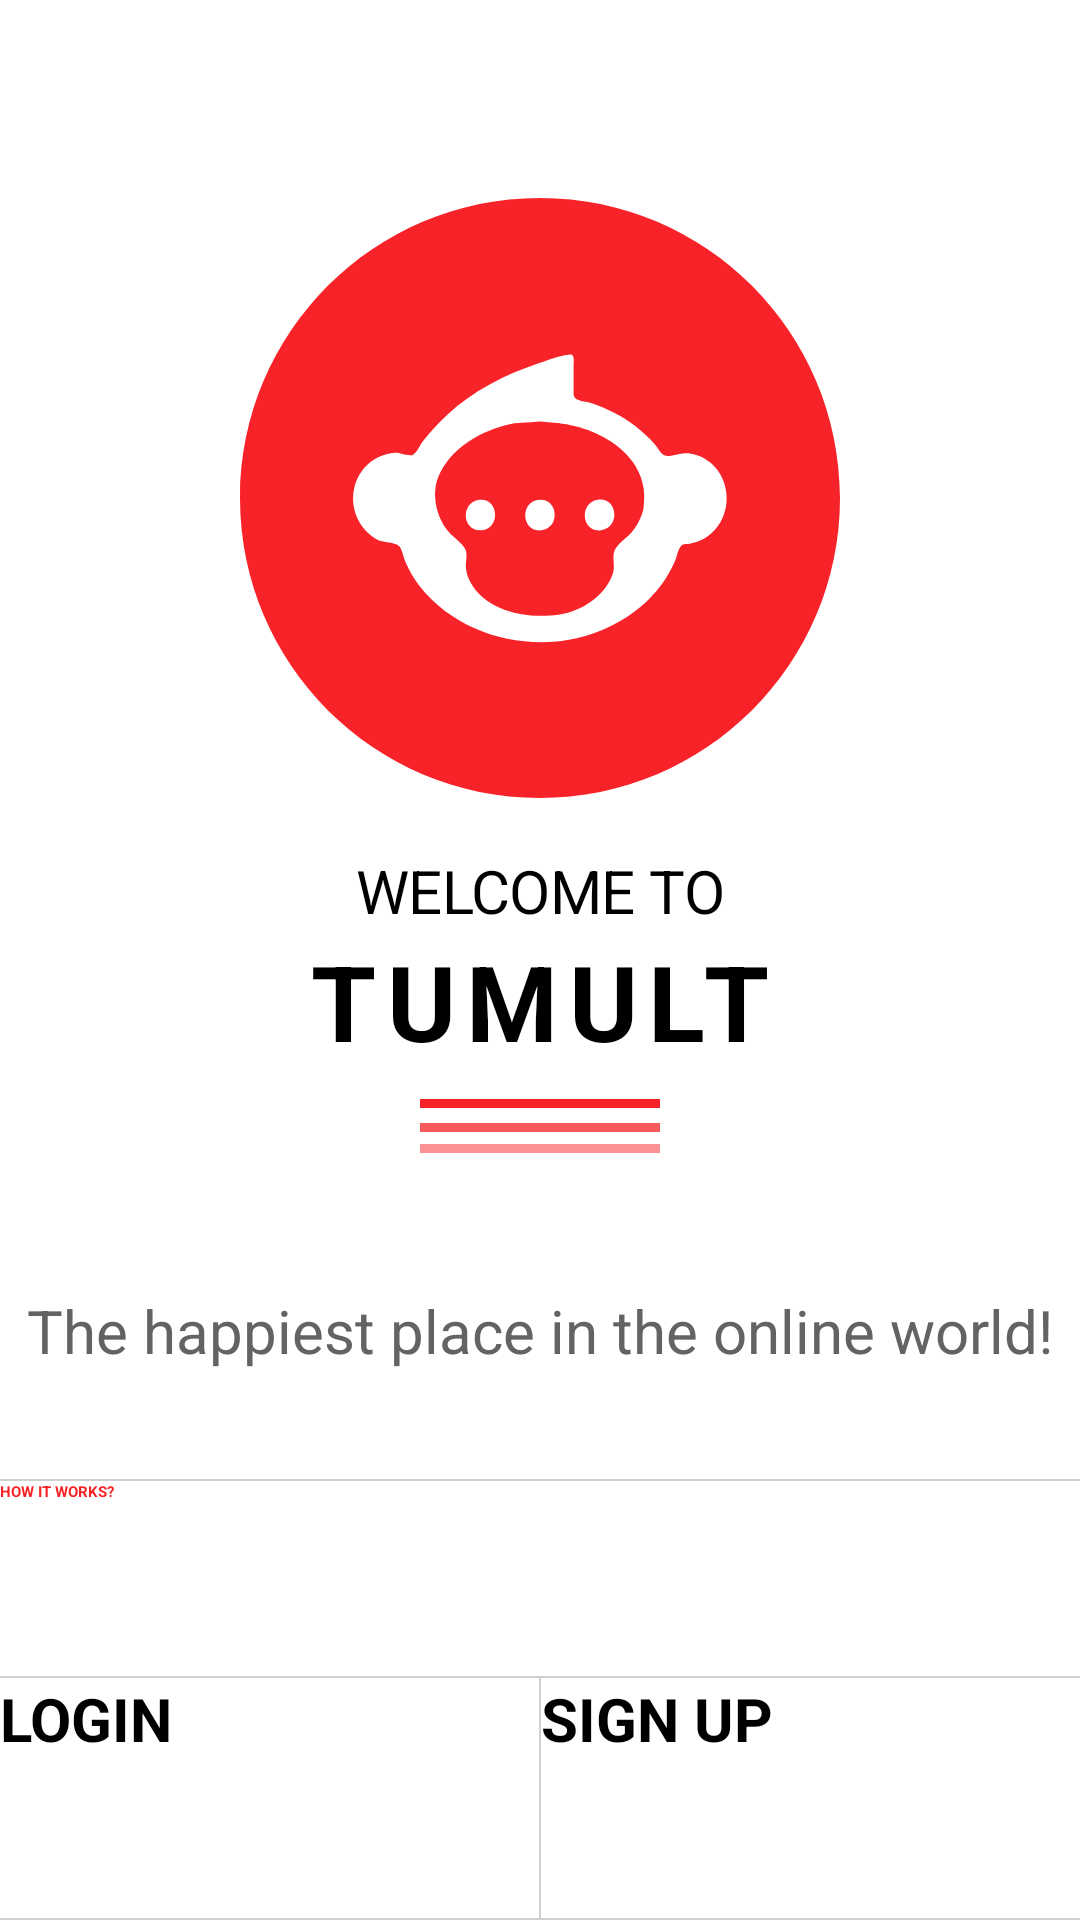

Screen size 1080×1920. Icon name, then its center in pixels as (x,y):
dashes: (540,1126)
